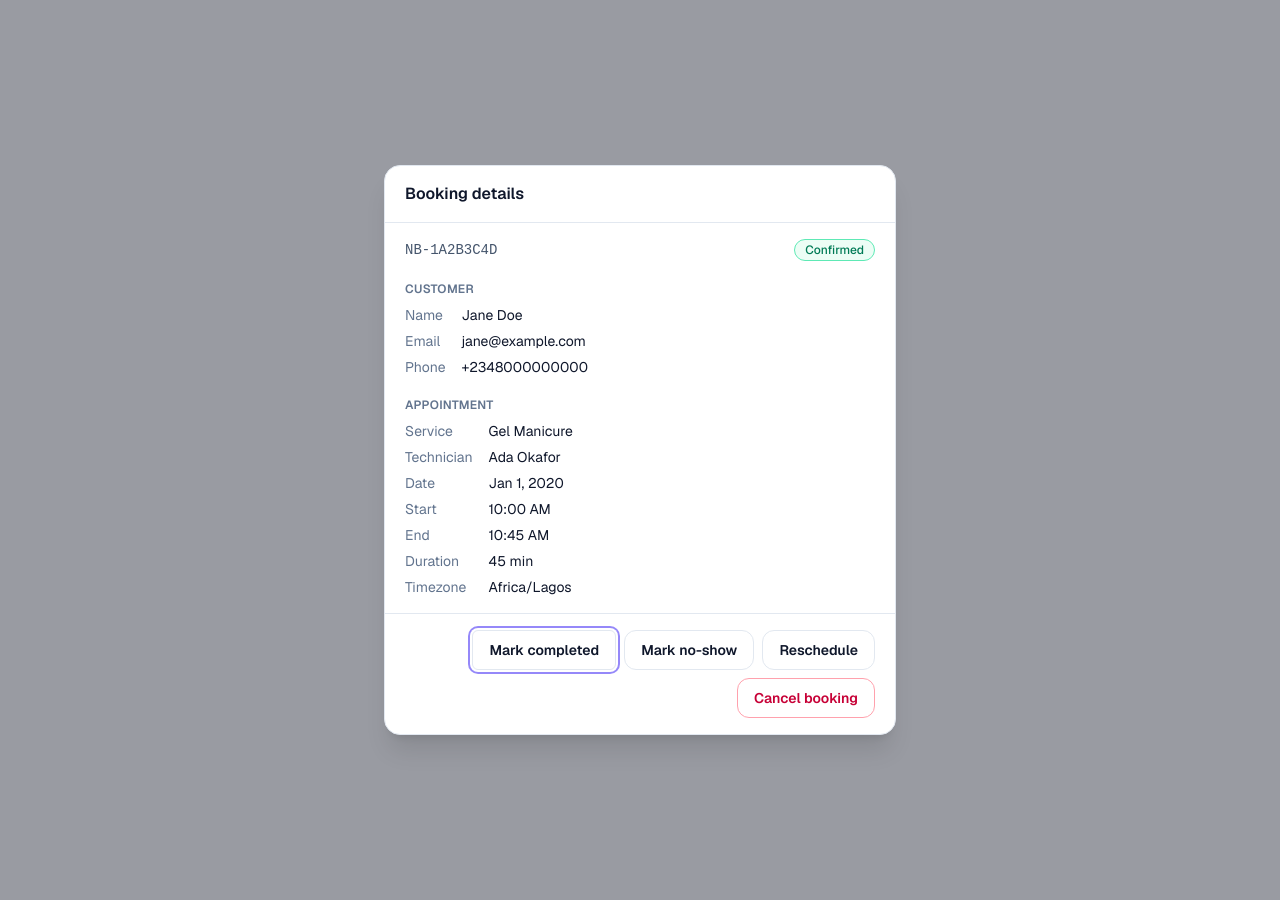
BookingDetailDialog — Complete flow › prevents a duplicate submission while pending
Click the button "Mark completed". click: (544, 650)
box: [472,630,616,670]
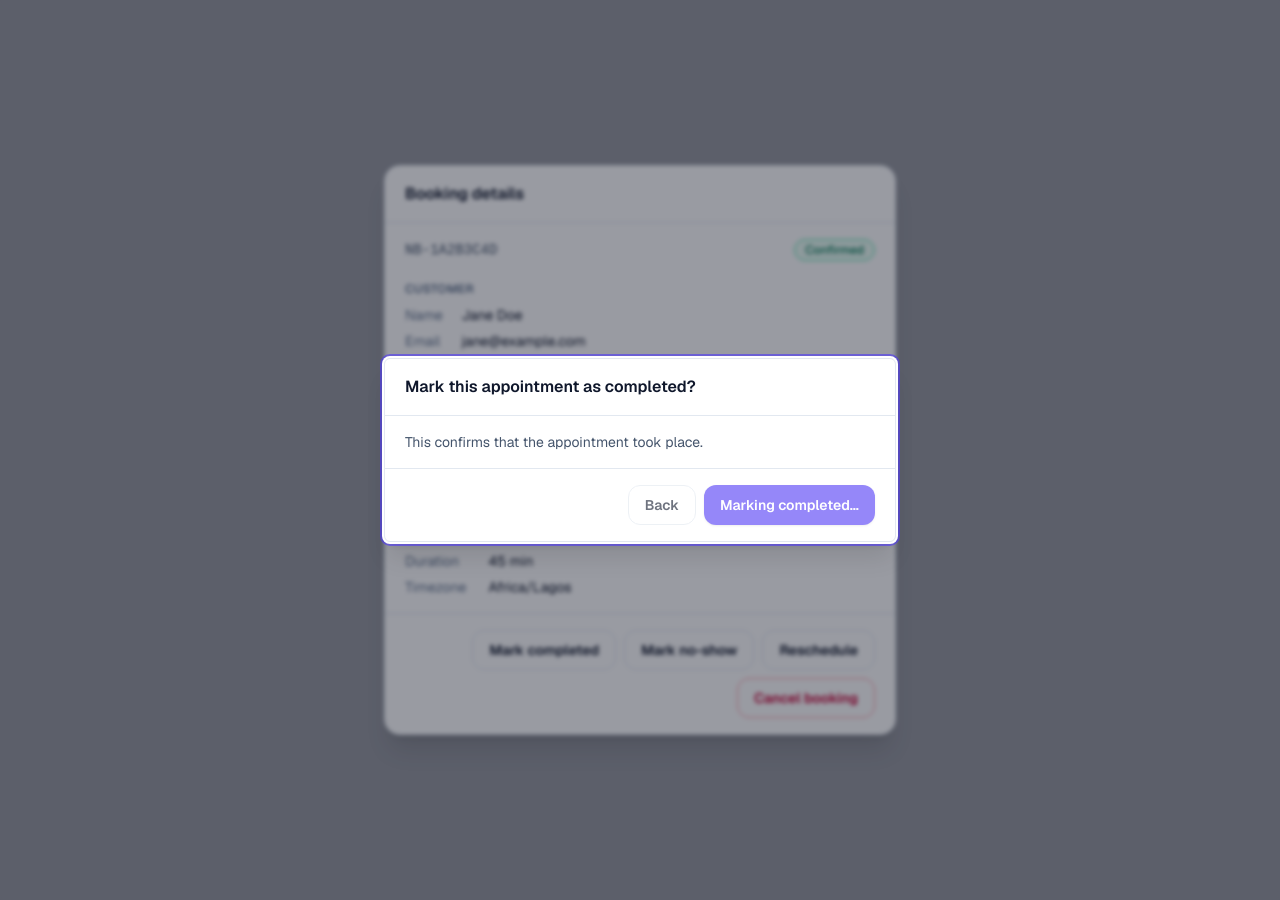
expect the button "Marking completed…" is disabled: met, box [704,485,875,525]
